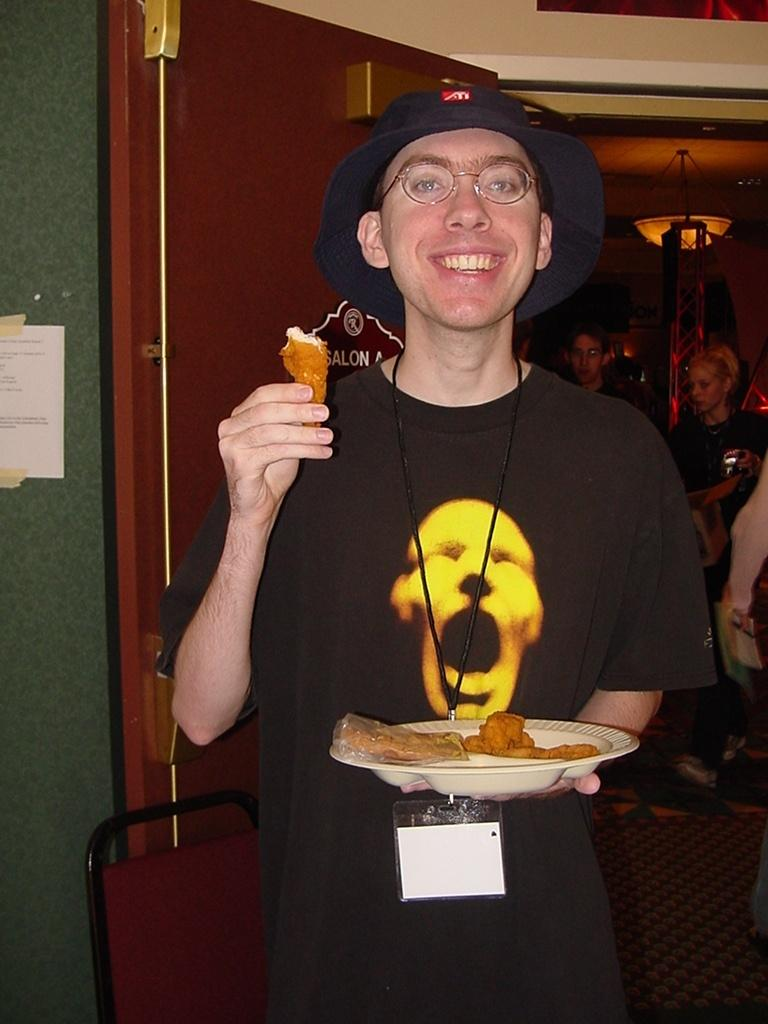Hat: (312, 89, 606, 325)
